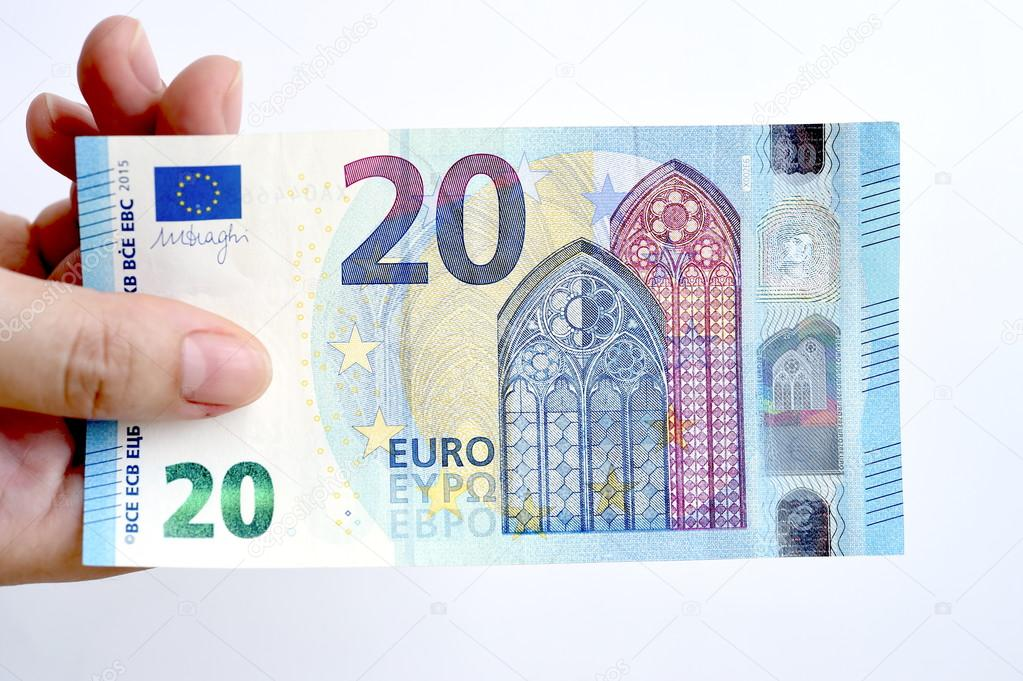billete: (70, 116, 911, 575)
